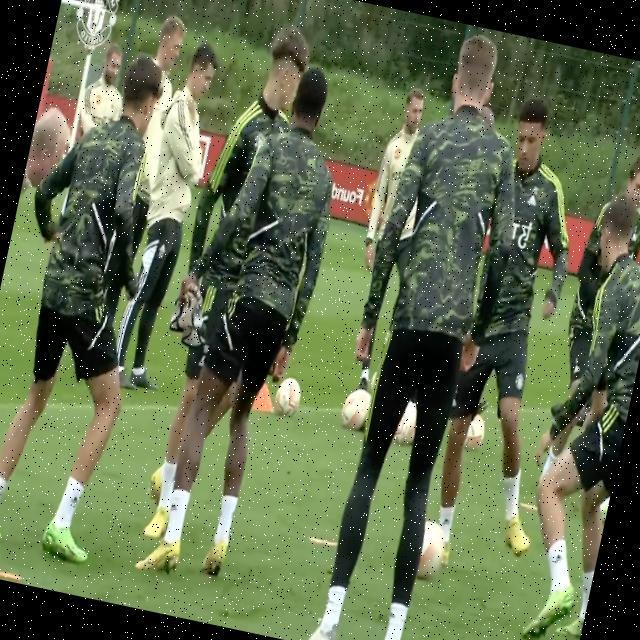Adidas: (67, 491, 82, 509), (552, 549, 564, 565), (526, 192, 538, 207), (169, 500, 180, 514)
